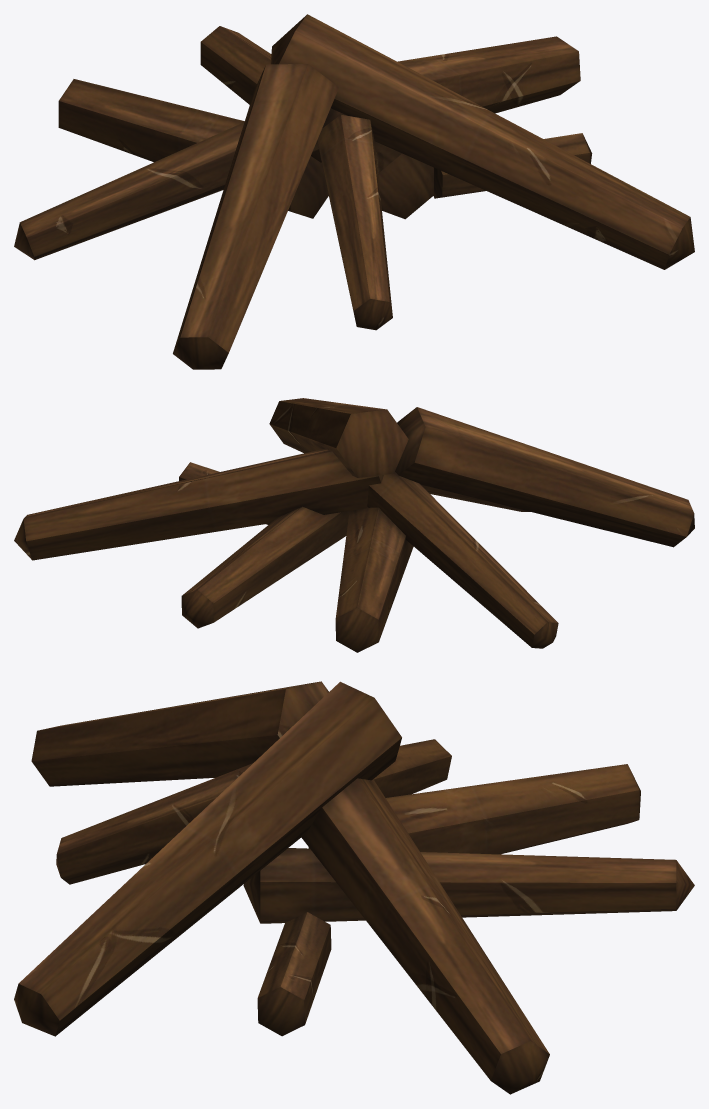
File: modelBonfire.fbx
The picture shows the model from 3 angles, top to bottom: view 1: azimuth 30°, elevation 25°; view 2: azimuth 150°, elevation 25°; view 3: azimuth 270°, elevation 25°; orthographic projection. The views are drawn at different scales.
Visible parts, largest first — view 1: modelBonfire; view 2: modelBonfire; view 3: modelBonfire.
Part boxes in pixels (<box>): modelBonfire: <box>14,14,694,369</box>; modelBonfire: <box>14,398,694,652</box>; modelBonfire: <box>14,681,694,1094</box>.
Size of the model in its own units: 19.08 by 6.17 by 16.81.
